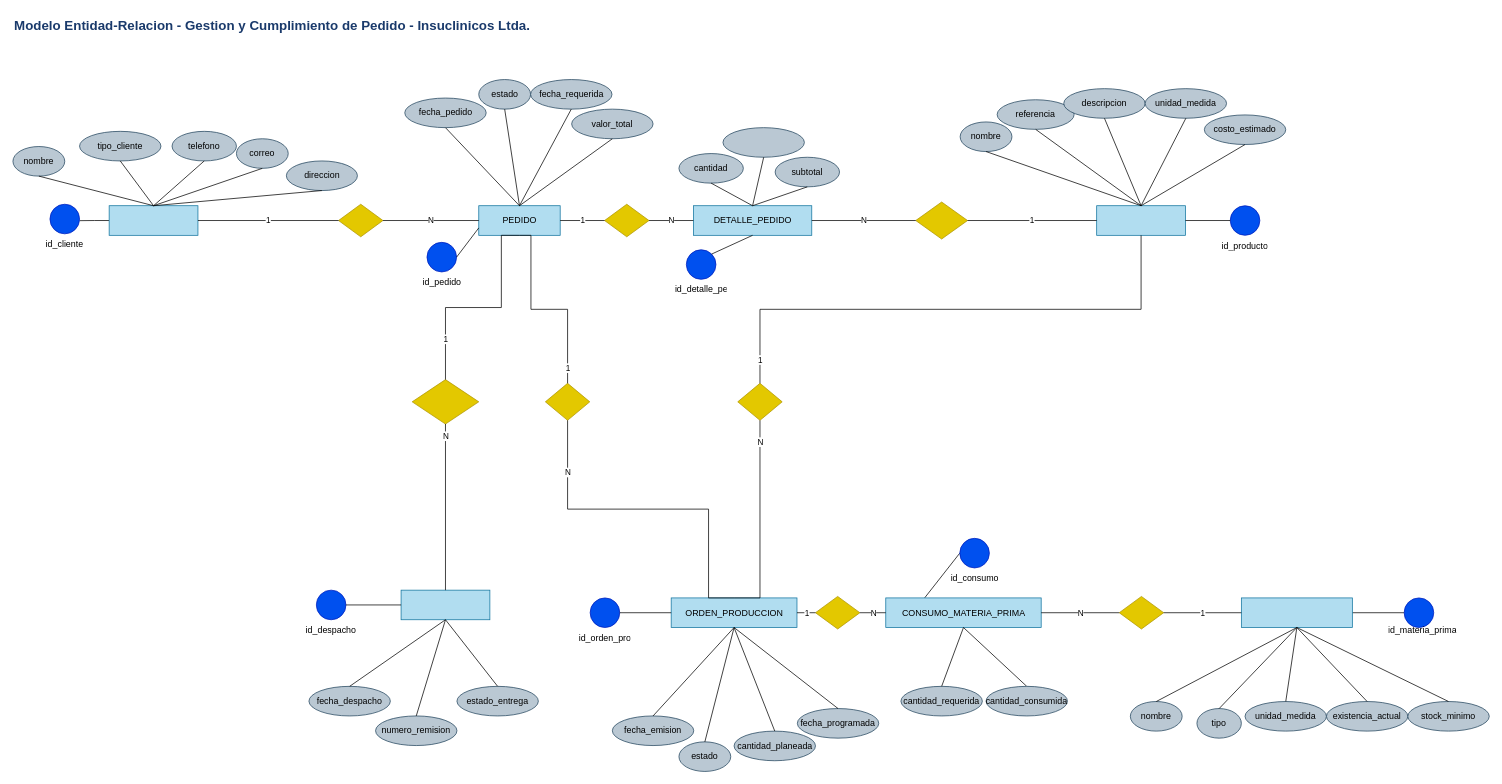
The diagram is 1502 pixels wide and 784 high, and some of its shapes have lost their labels. Each missing label, with the box of its shape:
CLIENTE: (108, 205, 198, 235)
contiene: (604, 204, 649, 237)
corresponde a: (915, 201, 968, 239)
DESPACHO: (400, 589, 490, 620)
fabrica: (737, 383, 782, 420)
MATERIA_PRIMA: (1241, 597, 1352, 628)
origina: (545, 383, 590, 420)
precio_unitario: (722, 127, 804, 157)
PRODUCTO: (1096, 205, 1185, 235)
realiza: (338, 204, 383, 237)
registra: (815, 596, 860, 629)
se entrega mediante: (411, 379, 479, 424)
usa: (1119, 596, 1164, 629)
